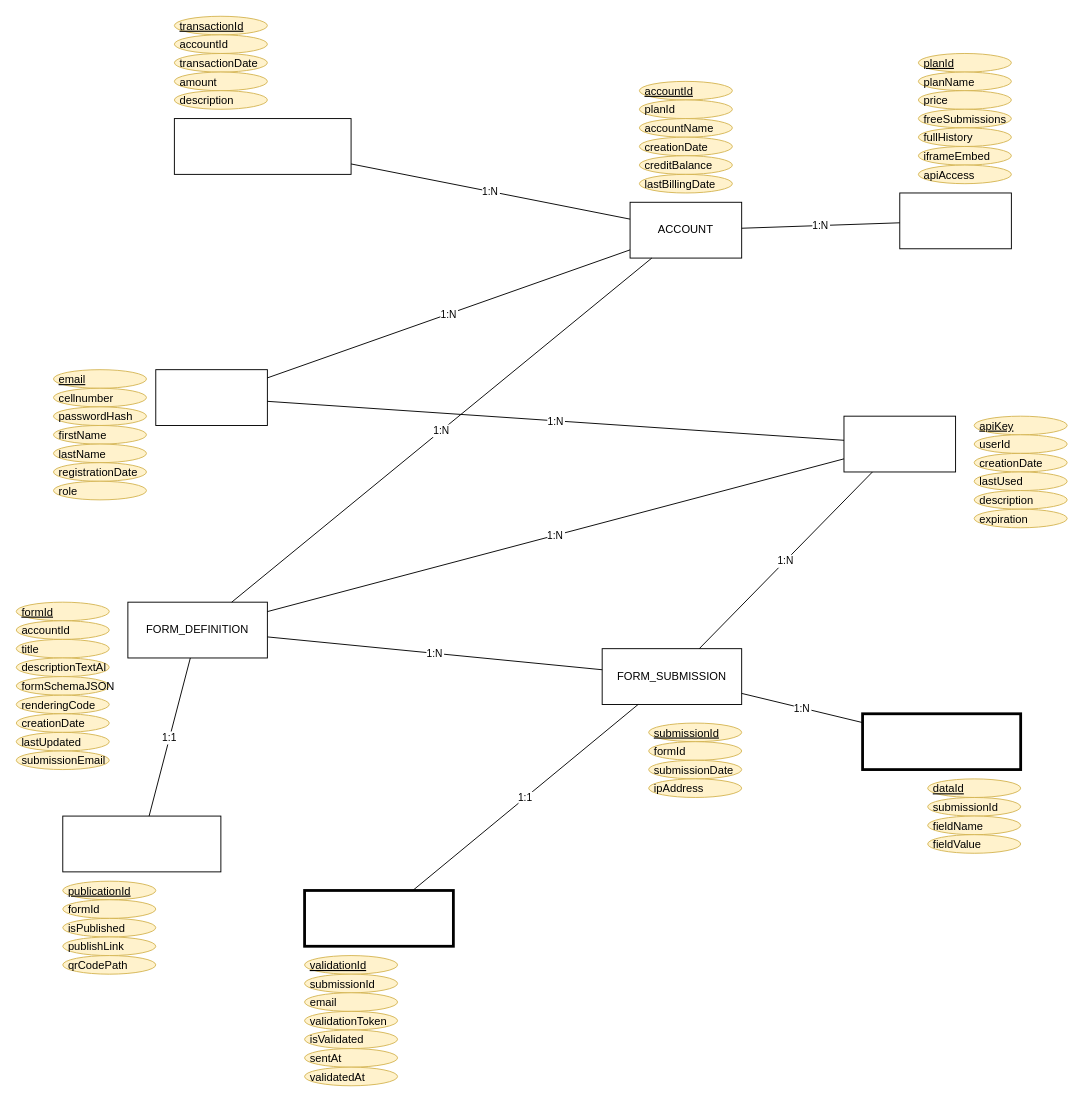
The diagram is 1083 pixels wide and 1102 high, and some of its shapes have lost their labels. The shapes that lost their labels are listed below. From the top down, each one's centre as x and y in pixels, then its label:
At pixel 262 146: "CREDIT_TRANSACTION".
At pixel 955 220: "PLAN".
At pixel 211 397: "USER".
At pixel 899 443: "API_KEY".
At pixel 941 741: "SUBMISSION_DATA".
At pixel 141 843: "FORM_PUBLICATION".
At pixel 378 918: "EMAIL_VALIDATION".
